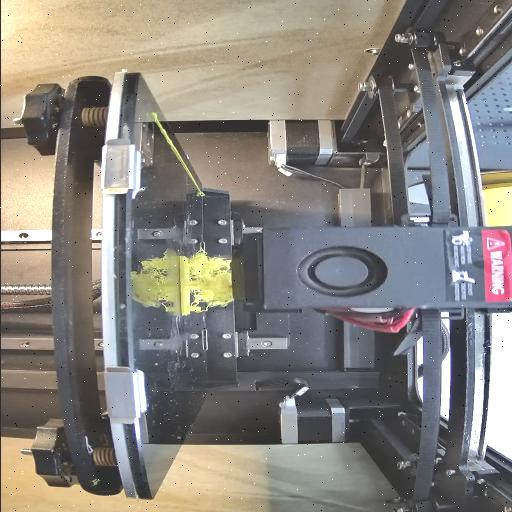spaghetti: (190, 248, 238, 311)
